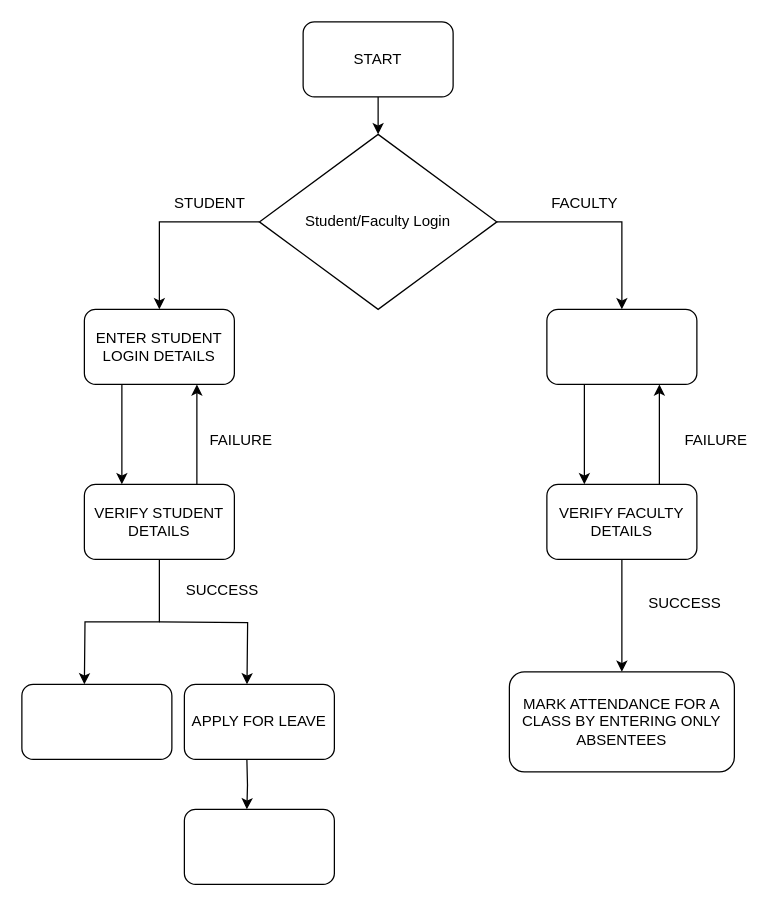
Image size: 781x906. Some labels were removed from this diagram. Here are the shapes that lost their labels. From the top down, the centre of each, then its label:
At (x=621, y=346): "ENTER FACULTY LOGIN DETAILS".
At (x=96, y=721): "VIEW STUDENT ATTENDANCE".
At (x=258, y=846): "VIEW LEAVE HISTORY".
